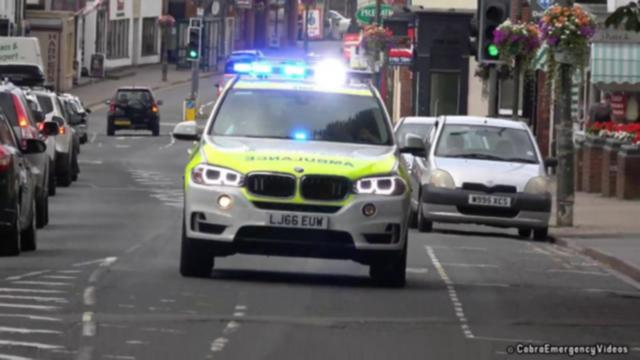police_car: (183, 53, 412, 284)
